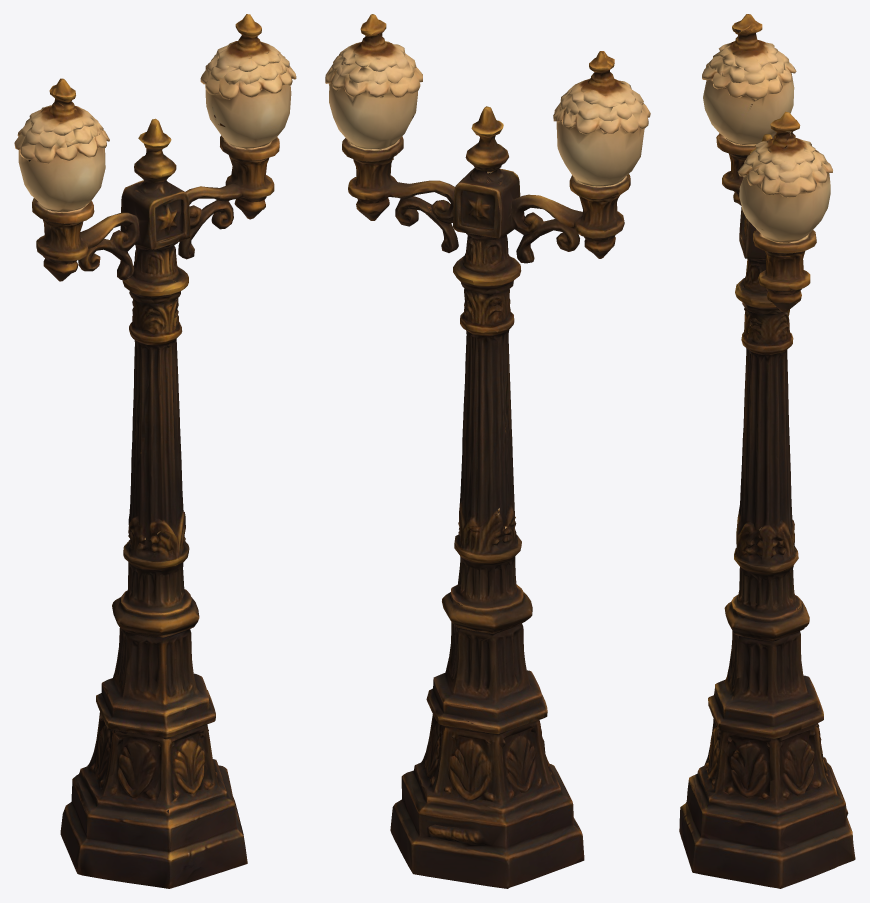
File: street-lamp-double.glb
The picture shows the model from 3 angles, left to right: view 1: azimuth 30°, elevation 25°; view 2: azimuth 150°, elevation 25°; view 3: azimuth 270°, elevation 25°; orthographic projection. The views are drawn at different scales.
Parts seen in each view (by area): view 1: SM_StreetLampDouble; view 2: SM_StreetLampDouble; view 3: SM_StreetLampDouble.
Boxes of the visible parts, x1,y1,x2,y2 form: SM_StreetLampDouble: (14, 14, 296, 888); SM_StreetLampDouble: (325, 14, 650, 888); SM_StreetLampDouble: (679, 14, 855, 888).
Size of the model in its own units: 1.69 by 4.5 by 0.9148.
Materials: 1 (1 with a texture image).
